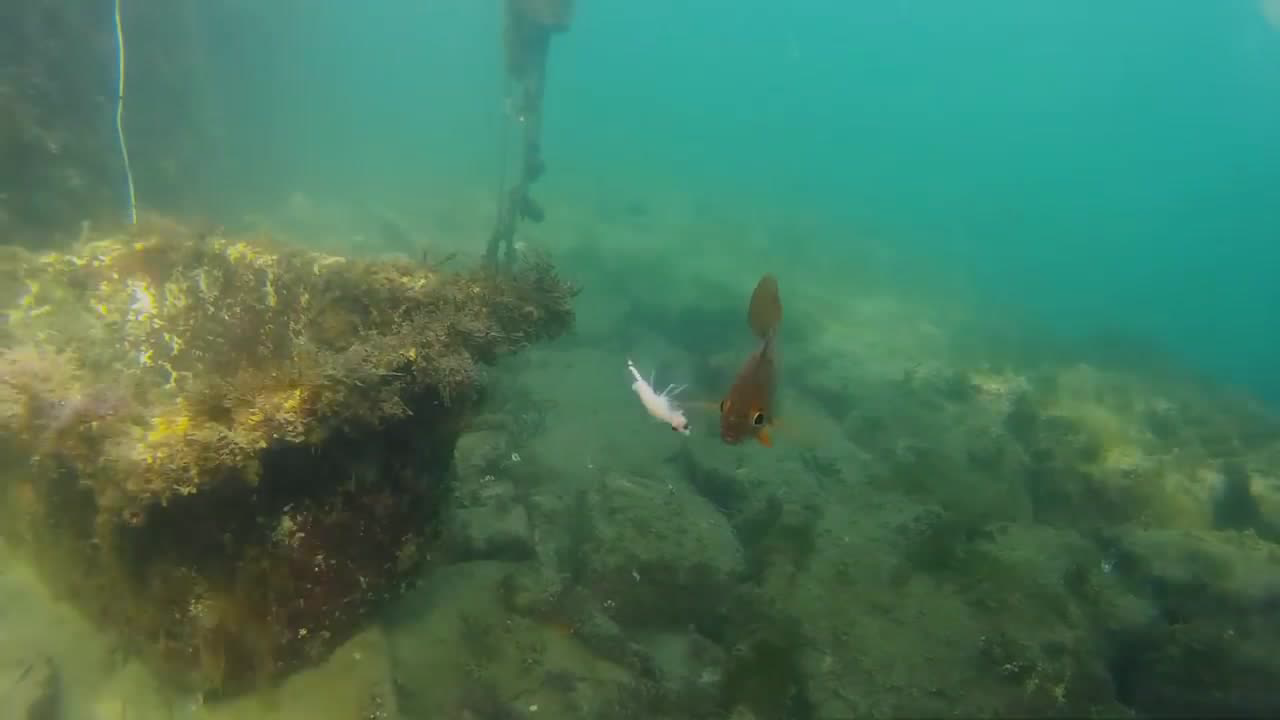mebaru: (697, 280, 809, 469)
